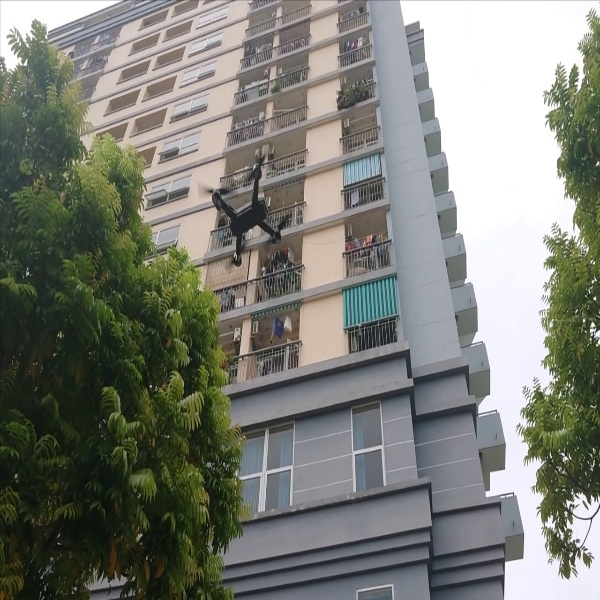drone: (195, 151, 303, 271)
